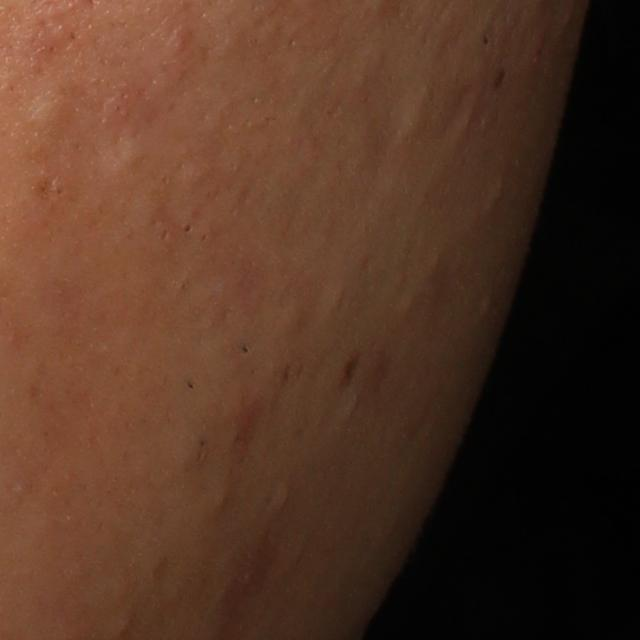comedo: (29, 91, 82, 137), (394, 84, 434, 139), (211, 486, 233, 511)
nevus: (336, 346, 363, 386)
